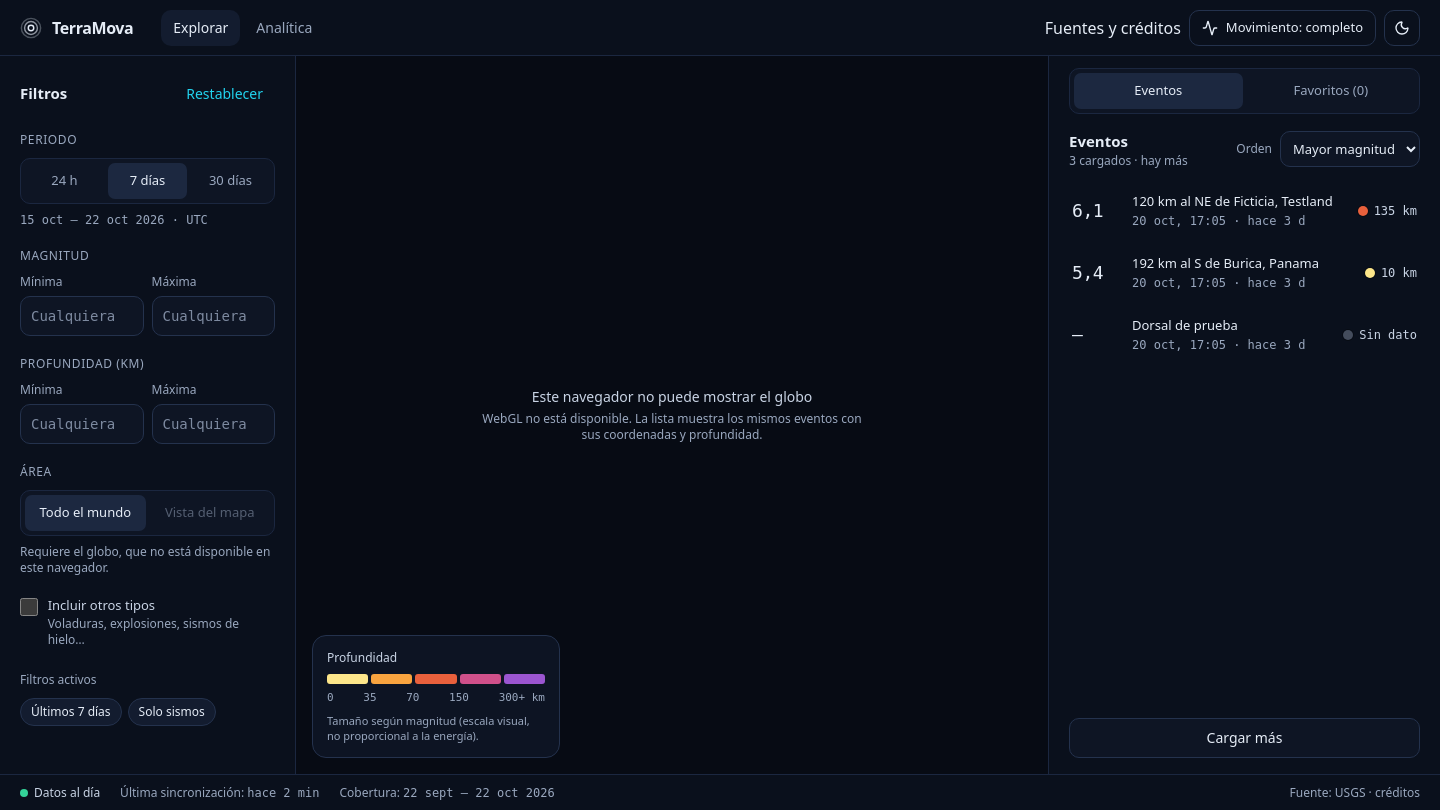
it: Explorar › carga más resultados con el cursor
The width and height of the screenshot is (1440, 810).
Step 1. Click the button "Cargar más" → [1244, 738], box [1069, 718, 1420, 758]
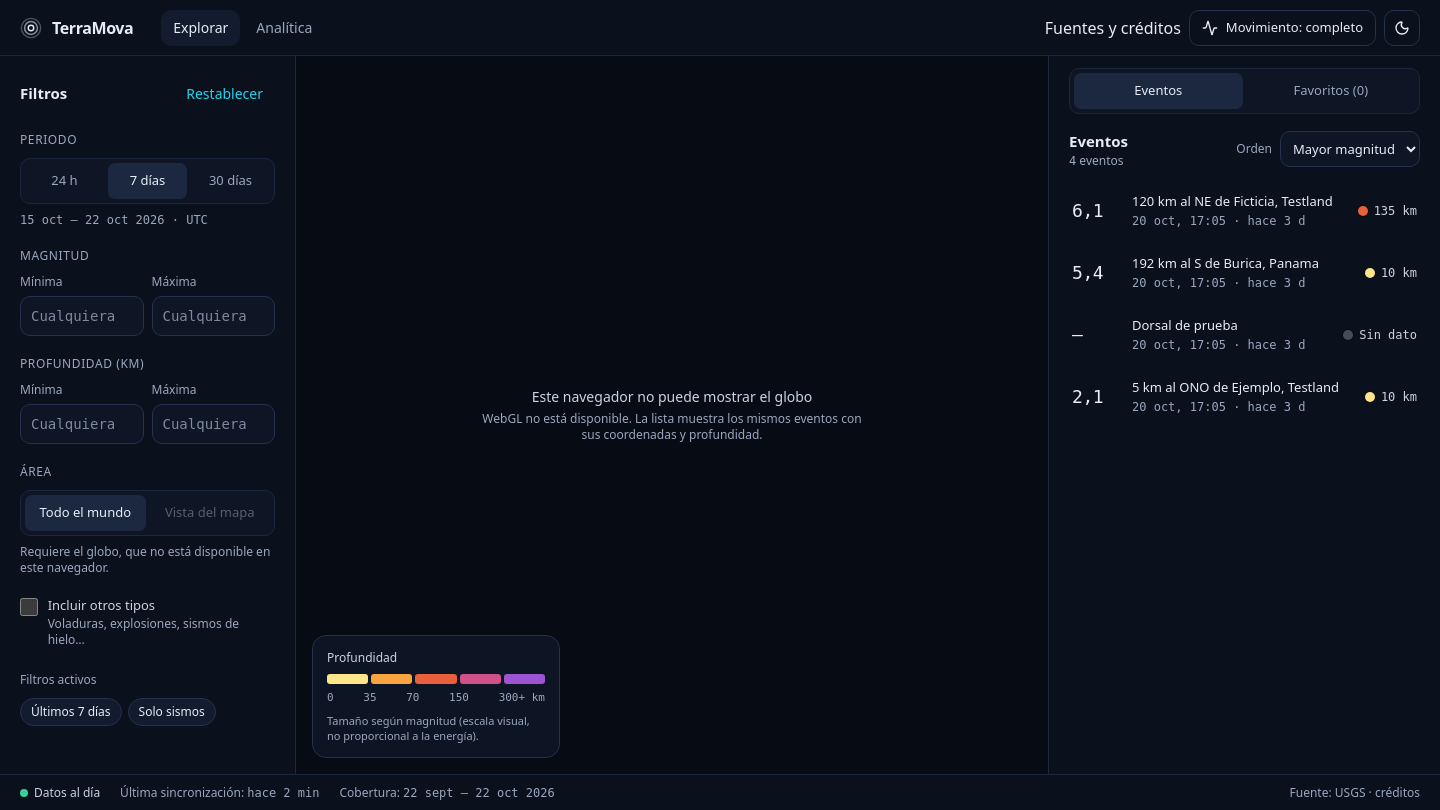
Expected: the text "5 km al ONO de Ejemplo, Testland" is shown, [1132, 378, 1353, 397]
Expected: the button "Cargar más" is gone
